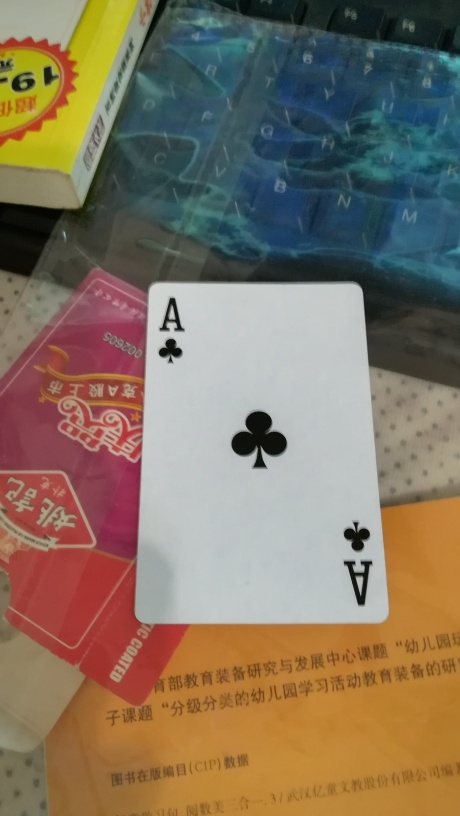mh a: (132, 279, 388, 627)
